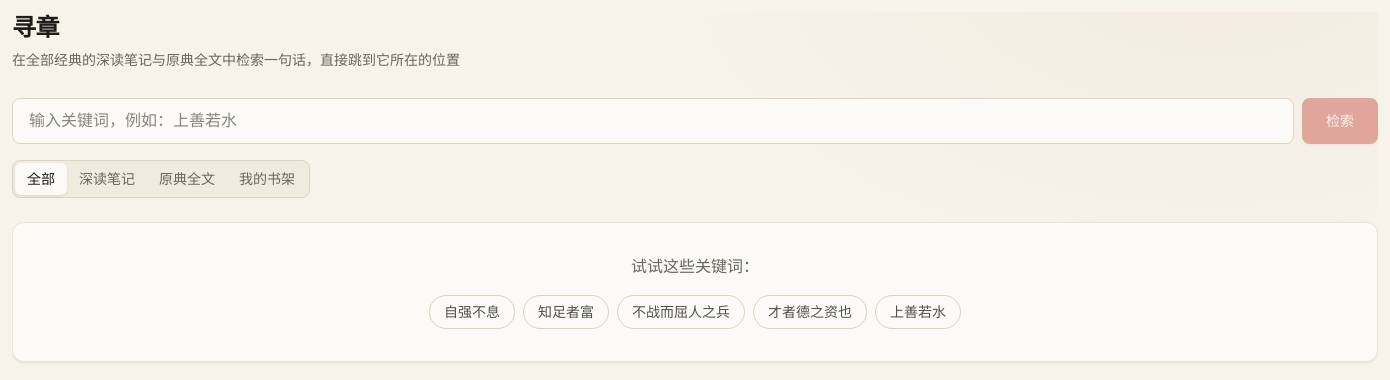
it: 寻章页面 › 检索失败时展示错误信息
This screenshot has width=1390, height=380.
Type "任意" into the field named "检索关键词" at (653, 121), box 12,98 -> 1294,144
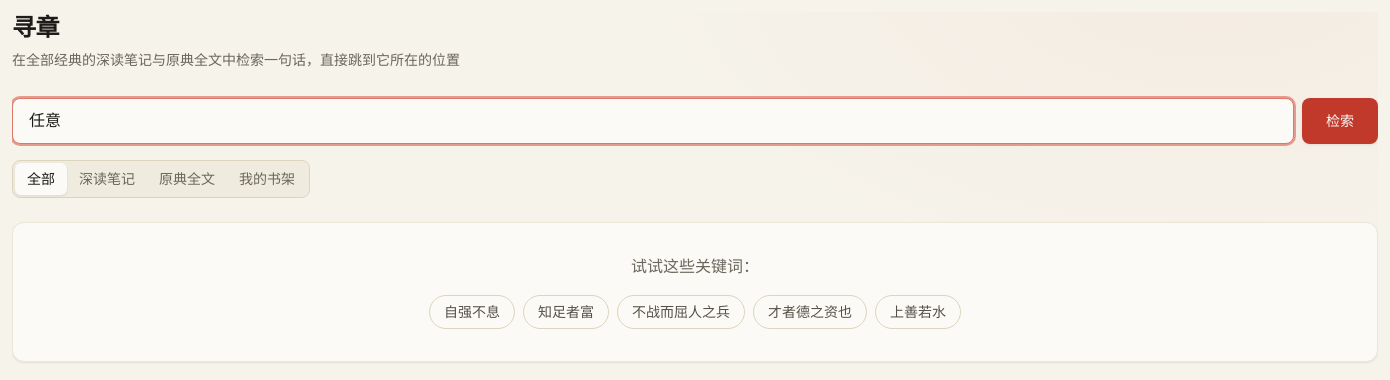
Click the button "检索" at (1340, 121), box 1302,98 -> 1378,144
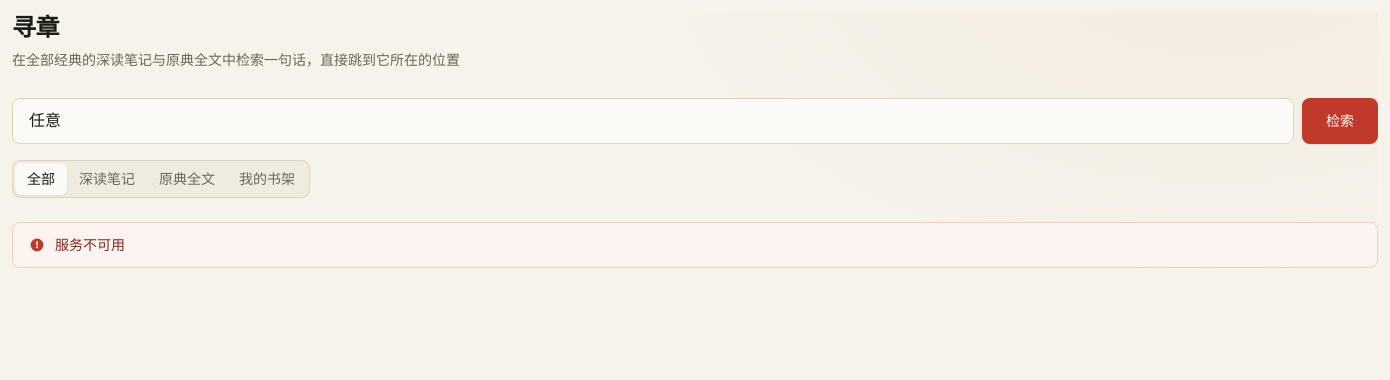
Expected: the text "服务不可用" is shown, 55,235 -> 125,254
